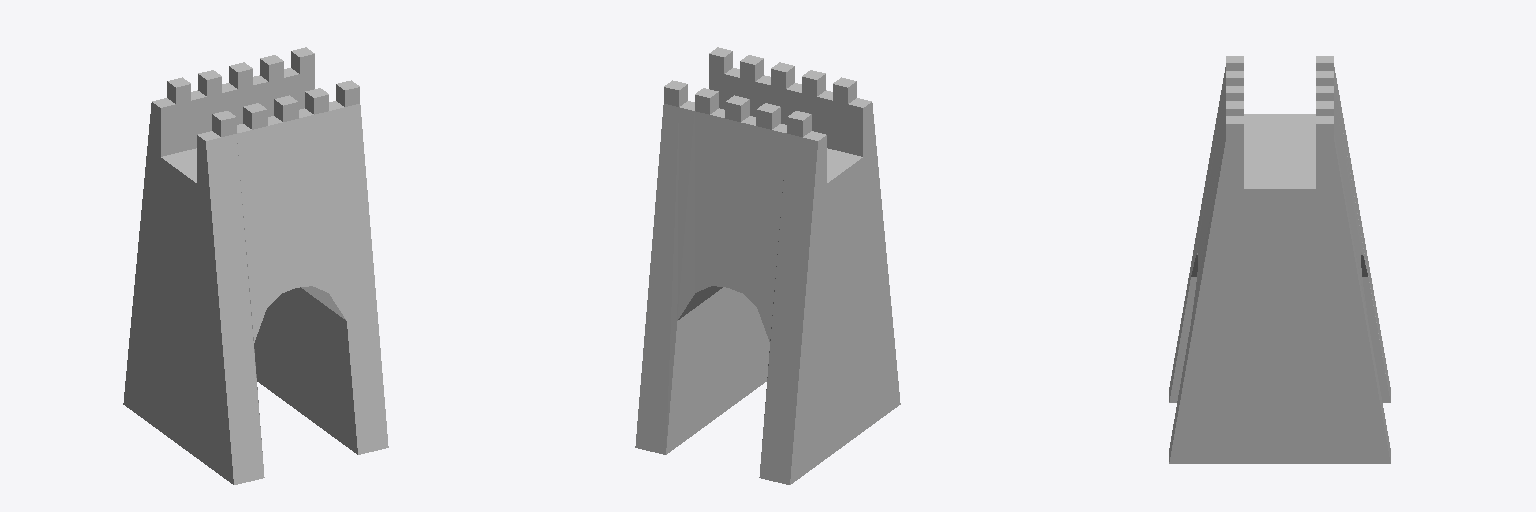
Rendered from gate.obj.
3 renders of one model, left to right at view 1: azimuth 30°, elevation 25°; view 2: azimuth 150°, elevation 25°; view 3: azimuth 270°, elevation 25°, orthographic.
Bounding box in the file's own units: 2.5 × 5.26 × 3.1.